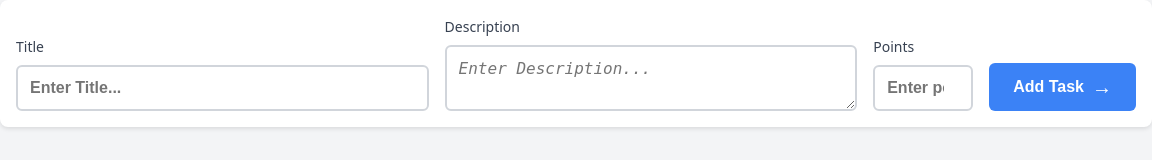
Scenario: EntryForm › resets form after successful submission
In the field with test id "entry-form-title": [222, 88] box [16,65,429,111], type "Test Task"
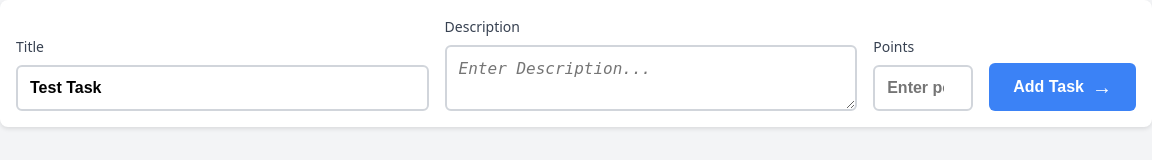
In the text box with test id "entry-form-description": [651, 78] box [445,45,857,111], type "Test Description"
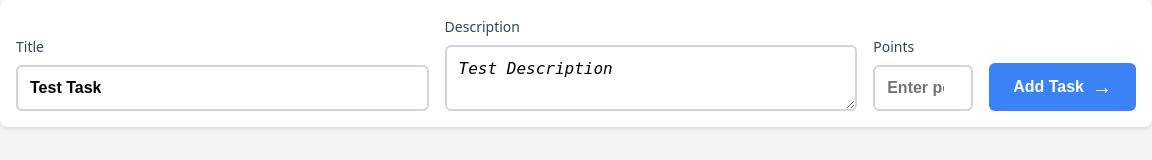
In the number field with test id "entry-form-points": [923, 88] box [873,65,973,111], type "10"
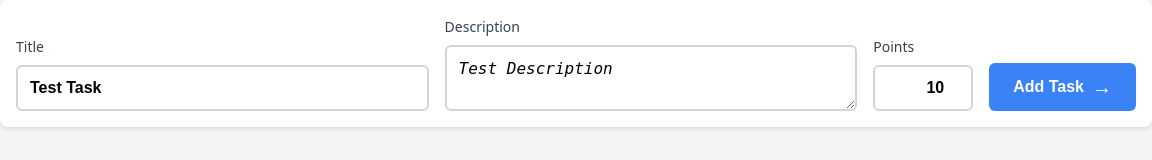
Click the button with test id "entry-form-submit": [1063, 87] box [989,63,1136,111]
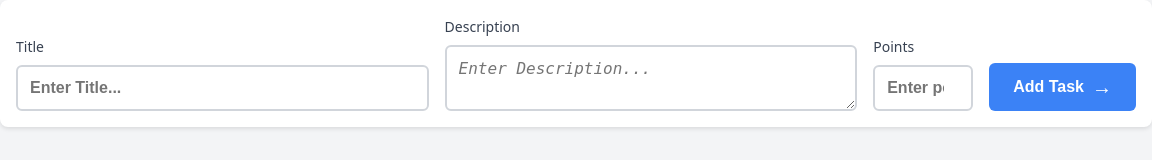
Now the field with test id "entry-form-title" is empty, box [16,65,429,111]
Now the text box with test id "entry-form-description" is empty, box [445,45,857,111]
Now the number field with test id "entry-form-points" is not empty, box [873,65,973,111]
